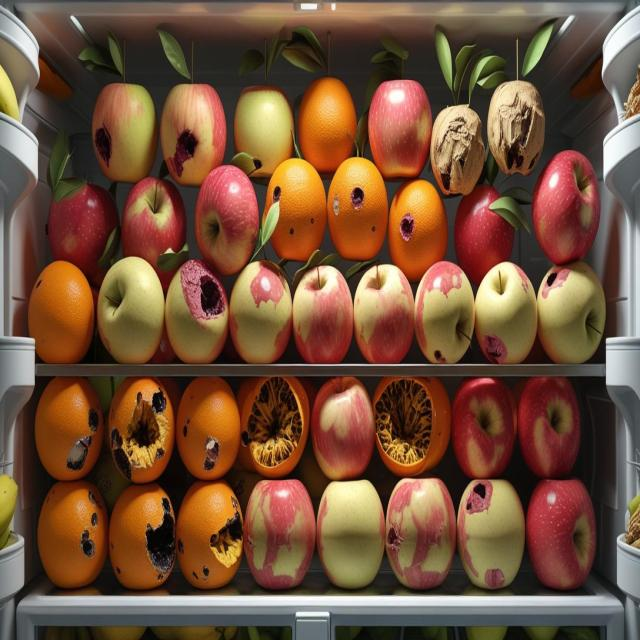apple: (47, 132, 119, 286), (243, 479, 315, 588), (532, 150, 600, 265), (385, 478, 456, 588), (526, 479, 596, 590), (121, 177, 188, 291), (457, 480, 525, 589), (317, 480, 384, 588), (195, 165, 260, 275), (97, 257, 164, 363), (537, 261, 606, 363), (160, 84, 226, 185), (311, 377, 375, 479), (92, 83, 157, 183), (165, 260, 228, 363), (474, 262, 537, 364), (452, 378, 516, 478), (230, 259, 292, 362), (517, 377, 580, 478), (368, 79, 432, 178), (454, 184, 514, 285), (415, 261, 474, 362), (354, 264, 414, 362), (293, 265, 353, 362), (233, 85, 294, 176), (487, 80, 545, 175), (430, 105, 486, 195)
orange: (106, 378, 179, 482), (372, 378, 449, 476), (38, 482, 107, 588), (237, 377, 309, 478), (176, 480, 243, 588), (35, 378, 104, 480), (109, 483, 175, 589), (263, 158, 327, 261), (29, 262, 94, 363), (176, 378, 240, 480), (327, 157, 388, 260), (387, 179, 447, 281), (297, 77, 357, 172)
